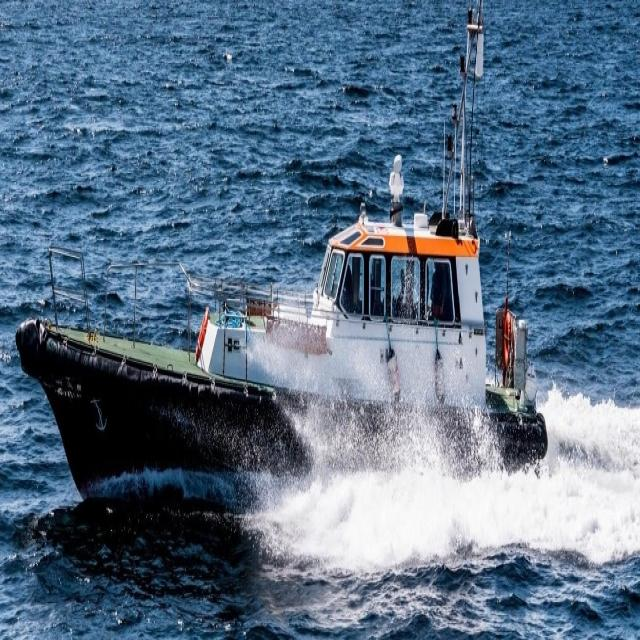houseboat: (31, 100, 550, 556)
